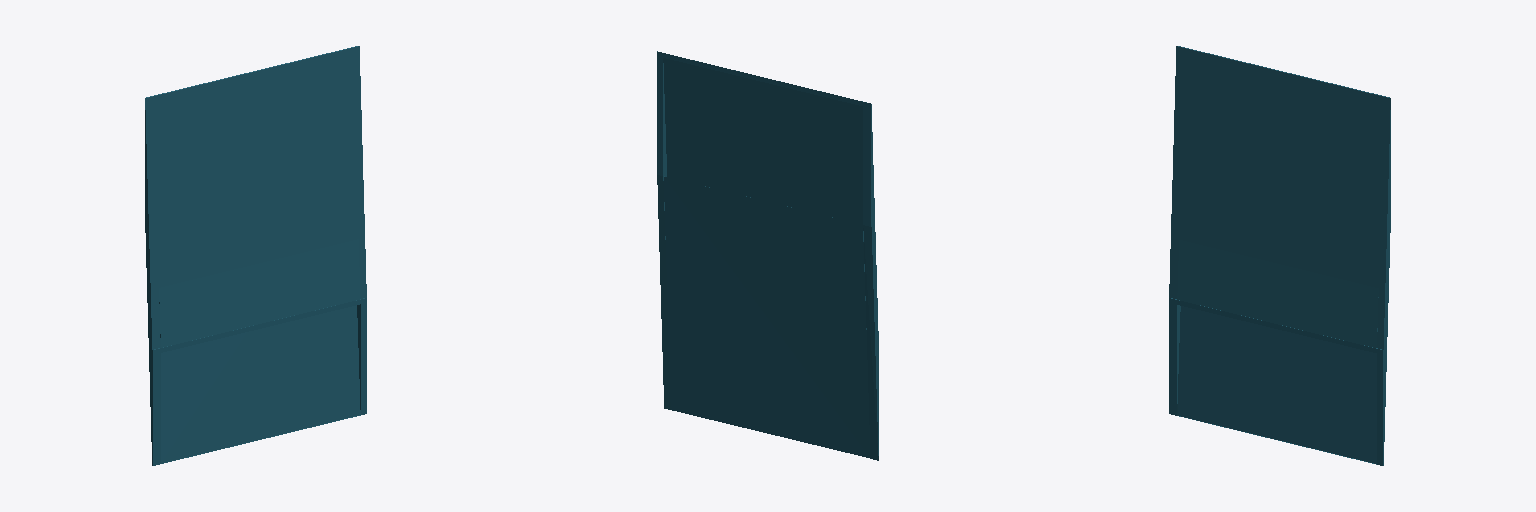
Rendered from slope tunnel.obj.
The picture shows the model from 3 angles: view 1: azimuth 30°, elevation 25°; view 2: azimuth 150°, elevation 25°; view 3: azimuth 330°, elevation 25°; orthographic projection.
Visible parts, largest first — view 1: slope tunnel; view 2: slope tunnel; view 3: slope tunnel.
Part boxes in pixels (x1,y1,x2,y2): slope tunnel: (145,46,366,465); slope tunnel: (657,51,878,460); slope tunnel: (1169,46,1390,465).
Bounding box in the file's own units: 16 × 25.87 × 1.03.